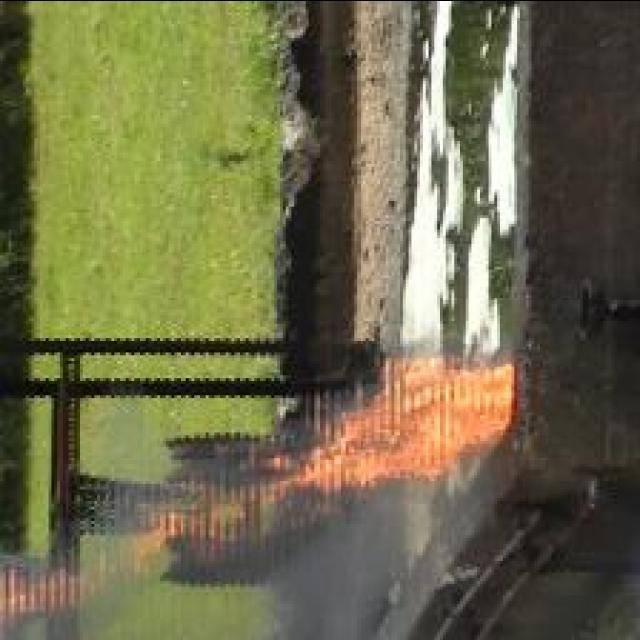Fire: (1, 357, 508, 623)
